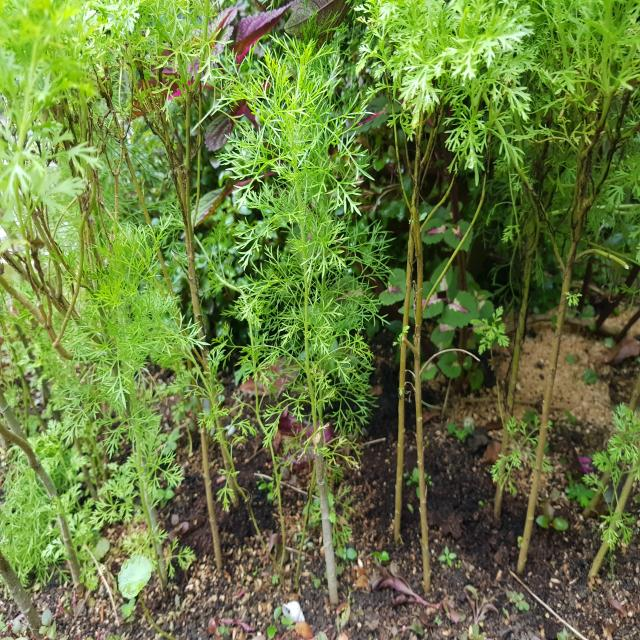Dill: (13, 22, 210, 592), (222, 90, 376, 599)
